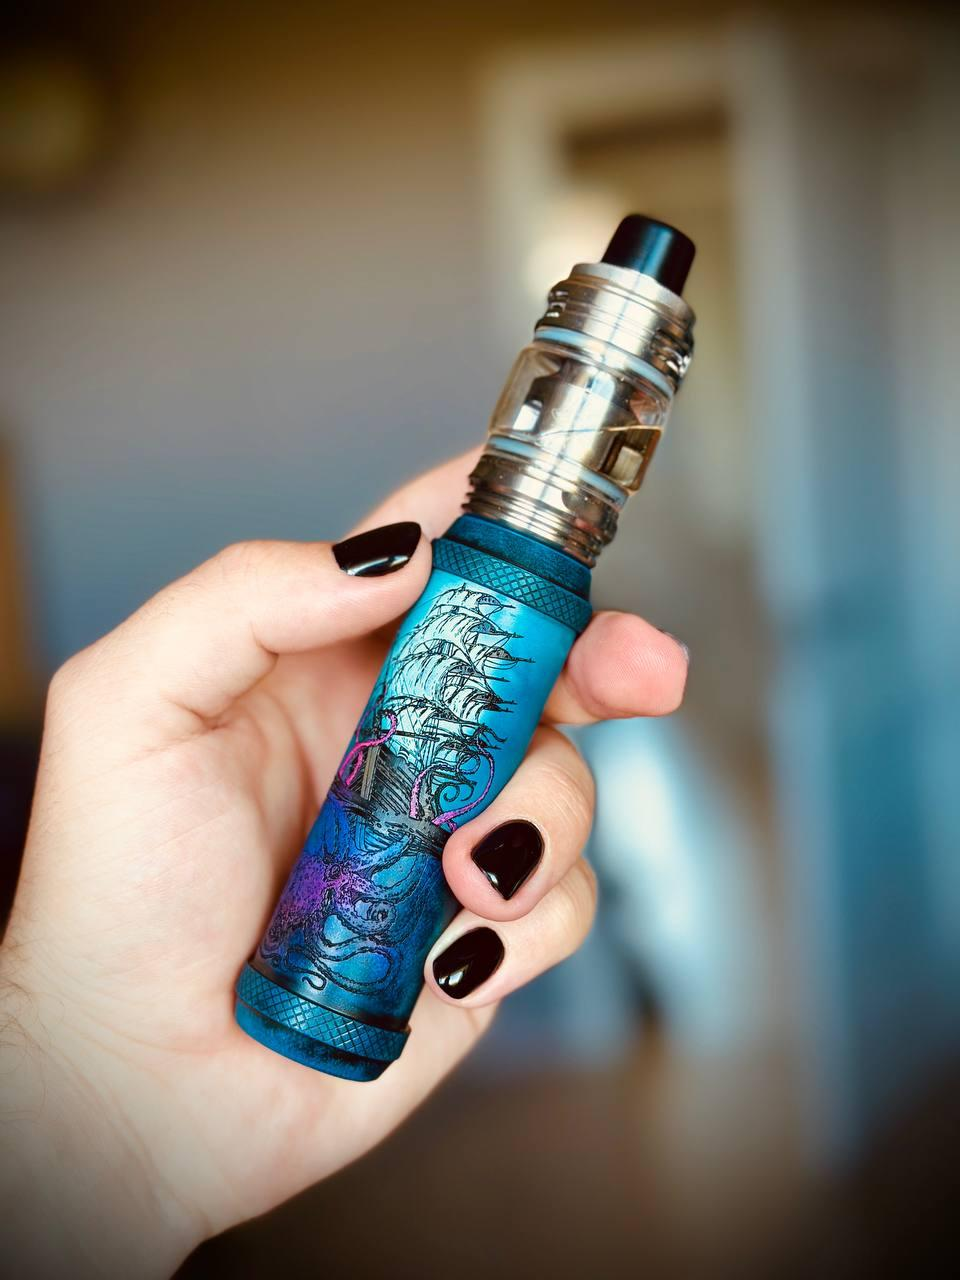Vape: (240, 217, 694, 1080)
